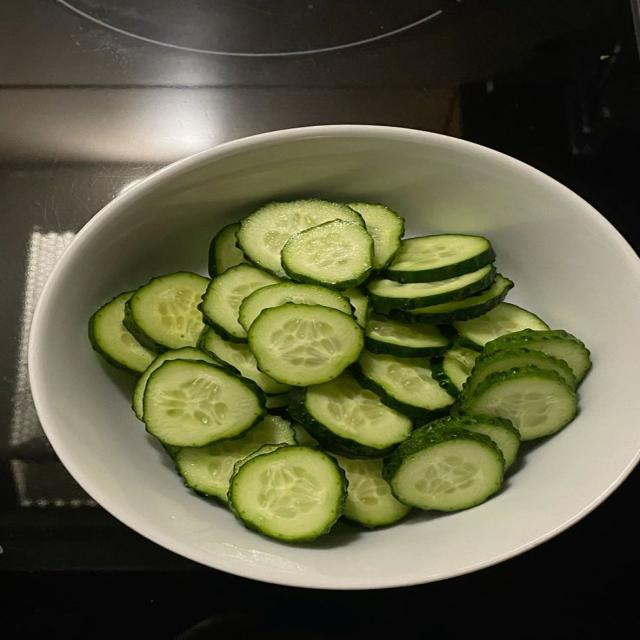cucumber sliced: (228, 446, 346, 541), (289, 372, 413, 457), (143, 360, 265, 446), (174, 415, 295, 501), (384, 425, 504, 511), (237, 199, 363, 277), (248, 303, 363, 386), (462, 365, 577, 440), (353, 351, 454, 421), (124, 272, 209, 352), (281, 220, 373, 290), (133, 348, 222, 420), (367, 265, 494, 314), (200, 265, 281, 341), (390, 274, 513, 324), (199, 328, 290, 395), (485, 329, 591, 383), (88, 291, 156, 374), (336, 455, 411, 528), (239, 282, 352, 330), (381, 235, 495, 282), (465, 348, 575, 394), (430, 415, 520, 470), (454, 303, 548, 351), (349, 203, 404, 270), (366, 316, 450, 356), (432, 344, 478, 397), (208, 222, 247, 277), (342, 288, 372, 327), (266, 393, 289, 414)
